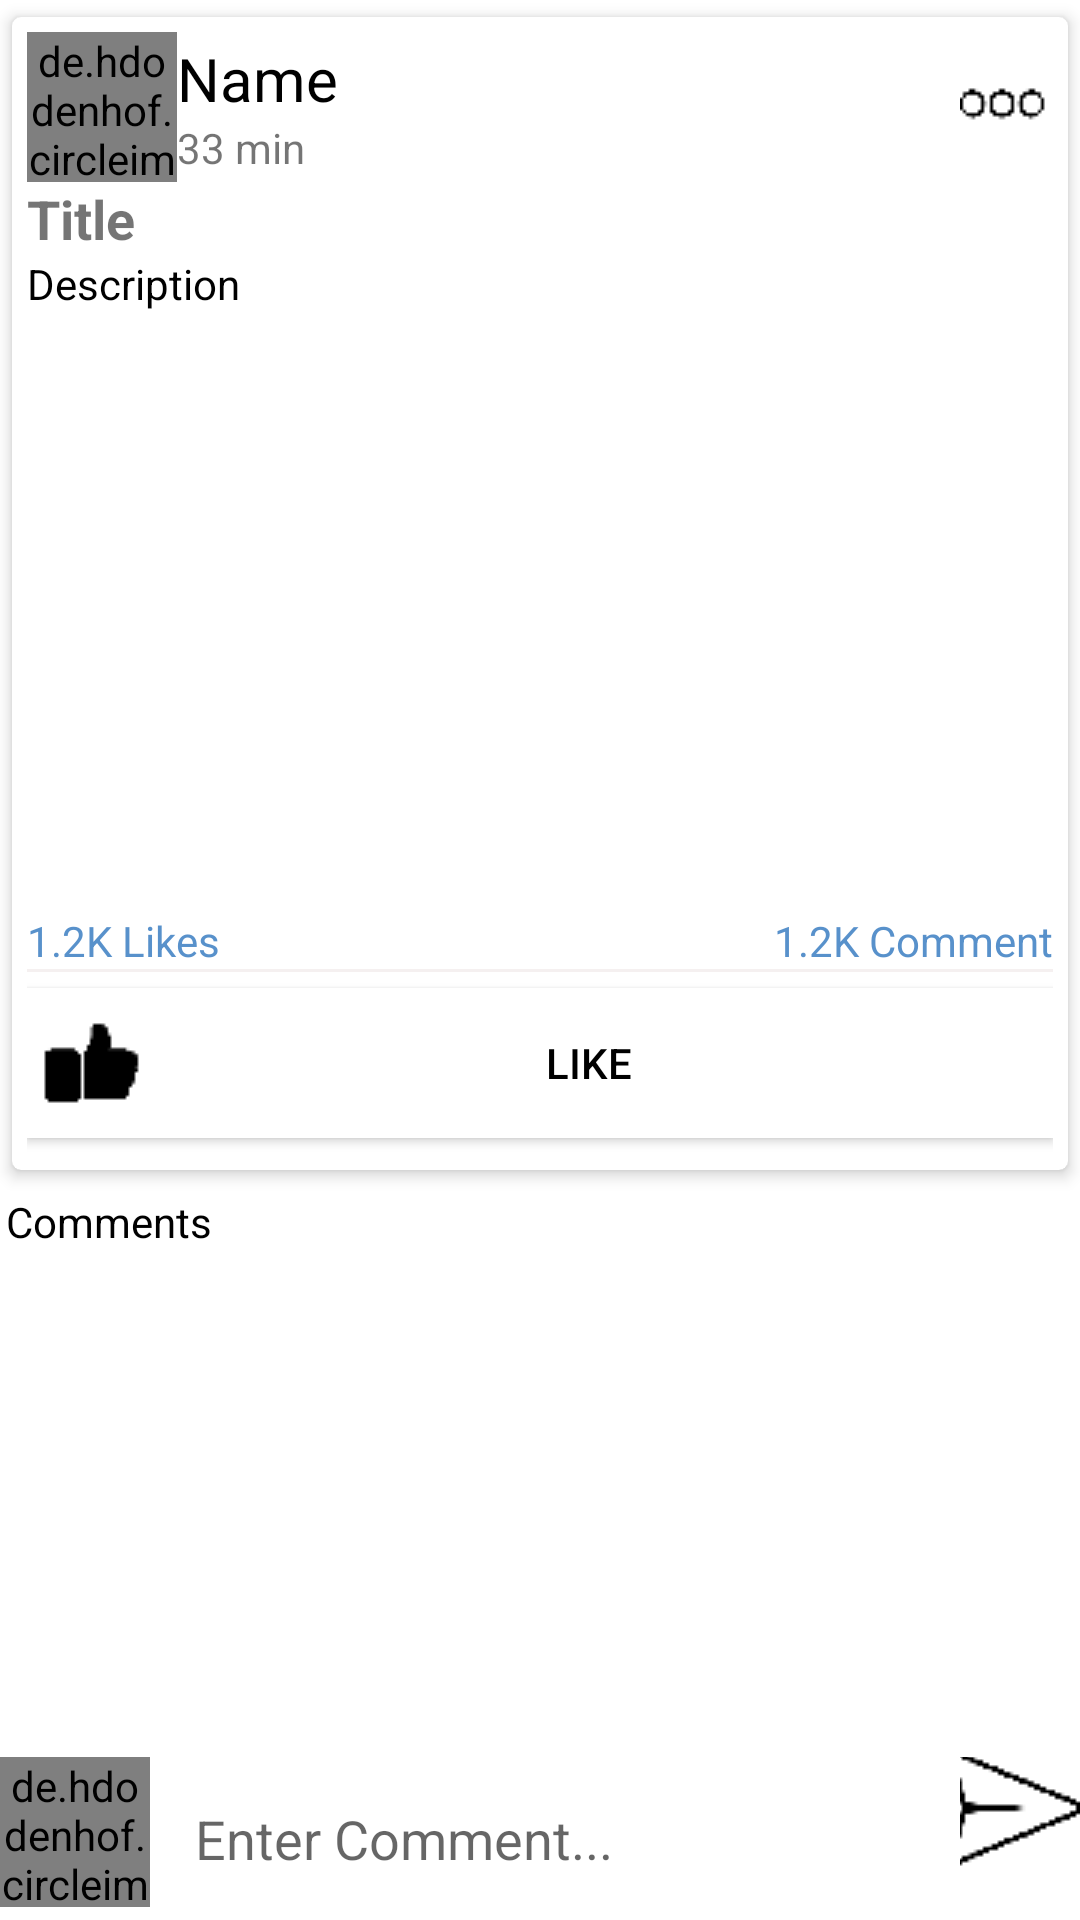

Icon bounding boxes for this 1080w x 1920h phone screenshot, format {"left": x1, "top": y1, "right": x2, "bottom": y2}:
more: {"left": 960, "top": 88, "right": 1045, "bottom": 120}
send message: {"left": 960, "top": 1757, "right": 1080, "bottom": 1866}
